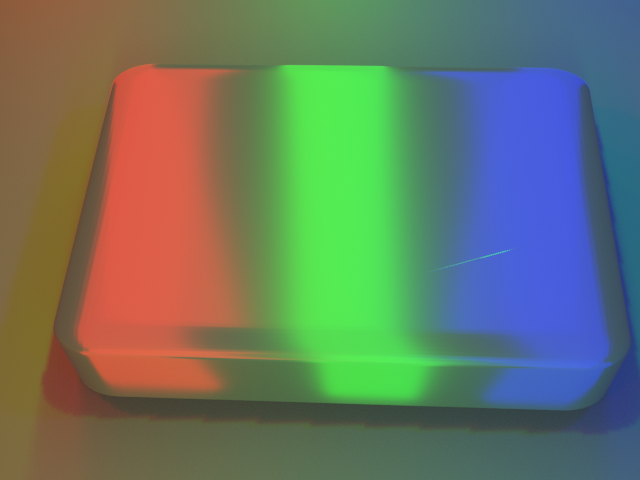scratch: (299, 142, 509, 347)
